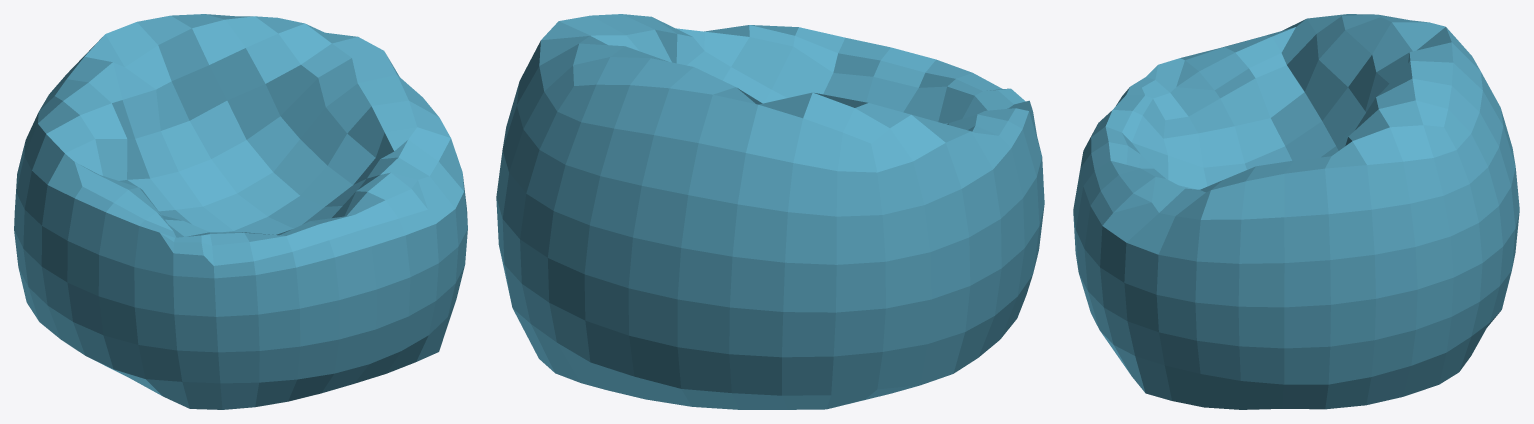
File: BeanBag.fbx
The picture shows the model from 3 angles, left to right: view 1: azimuth 30°, elevation 25°; view 2: azimuth 150°, elevation 25°; view 3: azimuth 270°, elevation 25°; orthographic projection. The views are drawn at different scales.
Visible parts, largest first — view 1: BeanBab; view 2: BeanBab; view 3: BeanBab.
Boxes of the visible parts, bbox=[...] form: BeanBab: bbox=[14, 14, 467, 409]; BeanBab: bbox=[496, 14, 1044, 409]; BeanBab: bbox=[1073, 14, 1519, 409].
Bounding box in the file's own units: 0.9953 × 0.6399 × 0.9523.
Materials: 1 (1 with a texture image).
